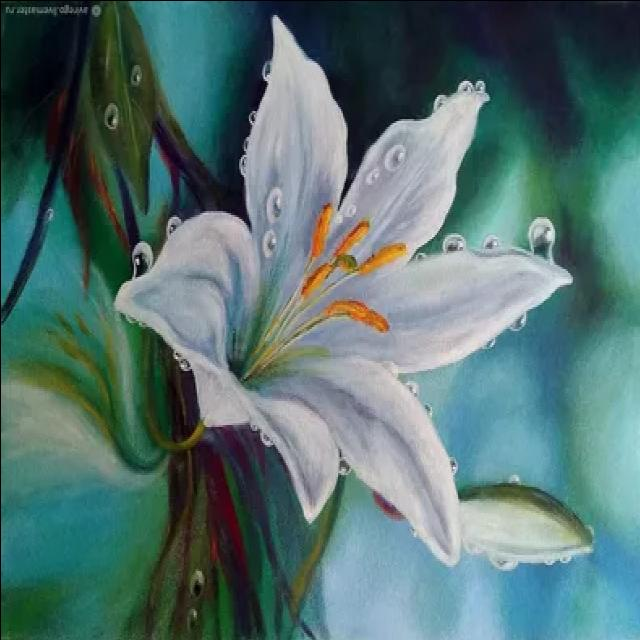lily: (106, 10, 578, 588)
